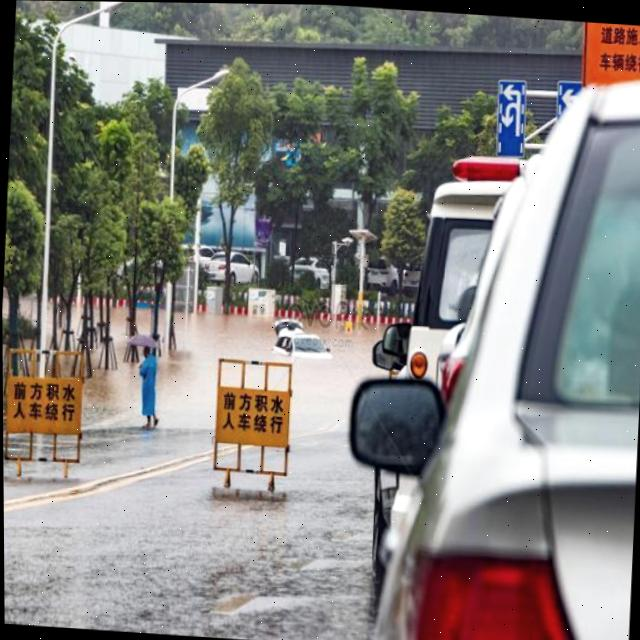civilian: (127, 339, 168, 437)
